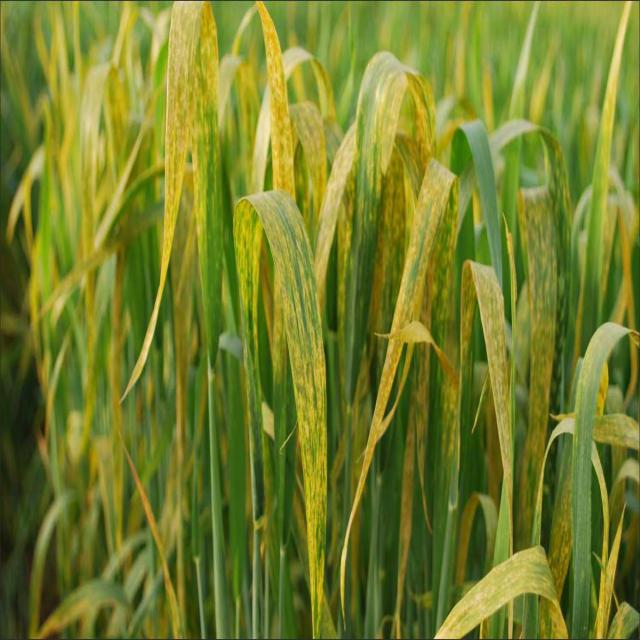wheat-yellowrust: (233, 193, 328, 635), (375, 158, 457, 401), (159, 2, 220, 283), (522, 195, 556, 535), (452, 543, 561, 640), (473, 270, 512, 467), (258, 5, 294, 198)
